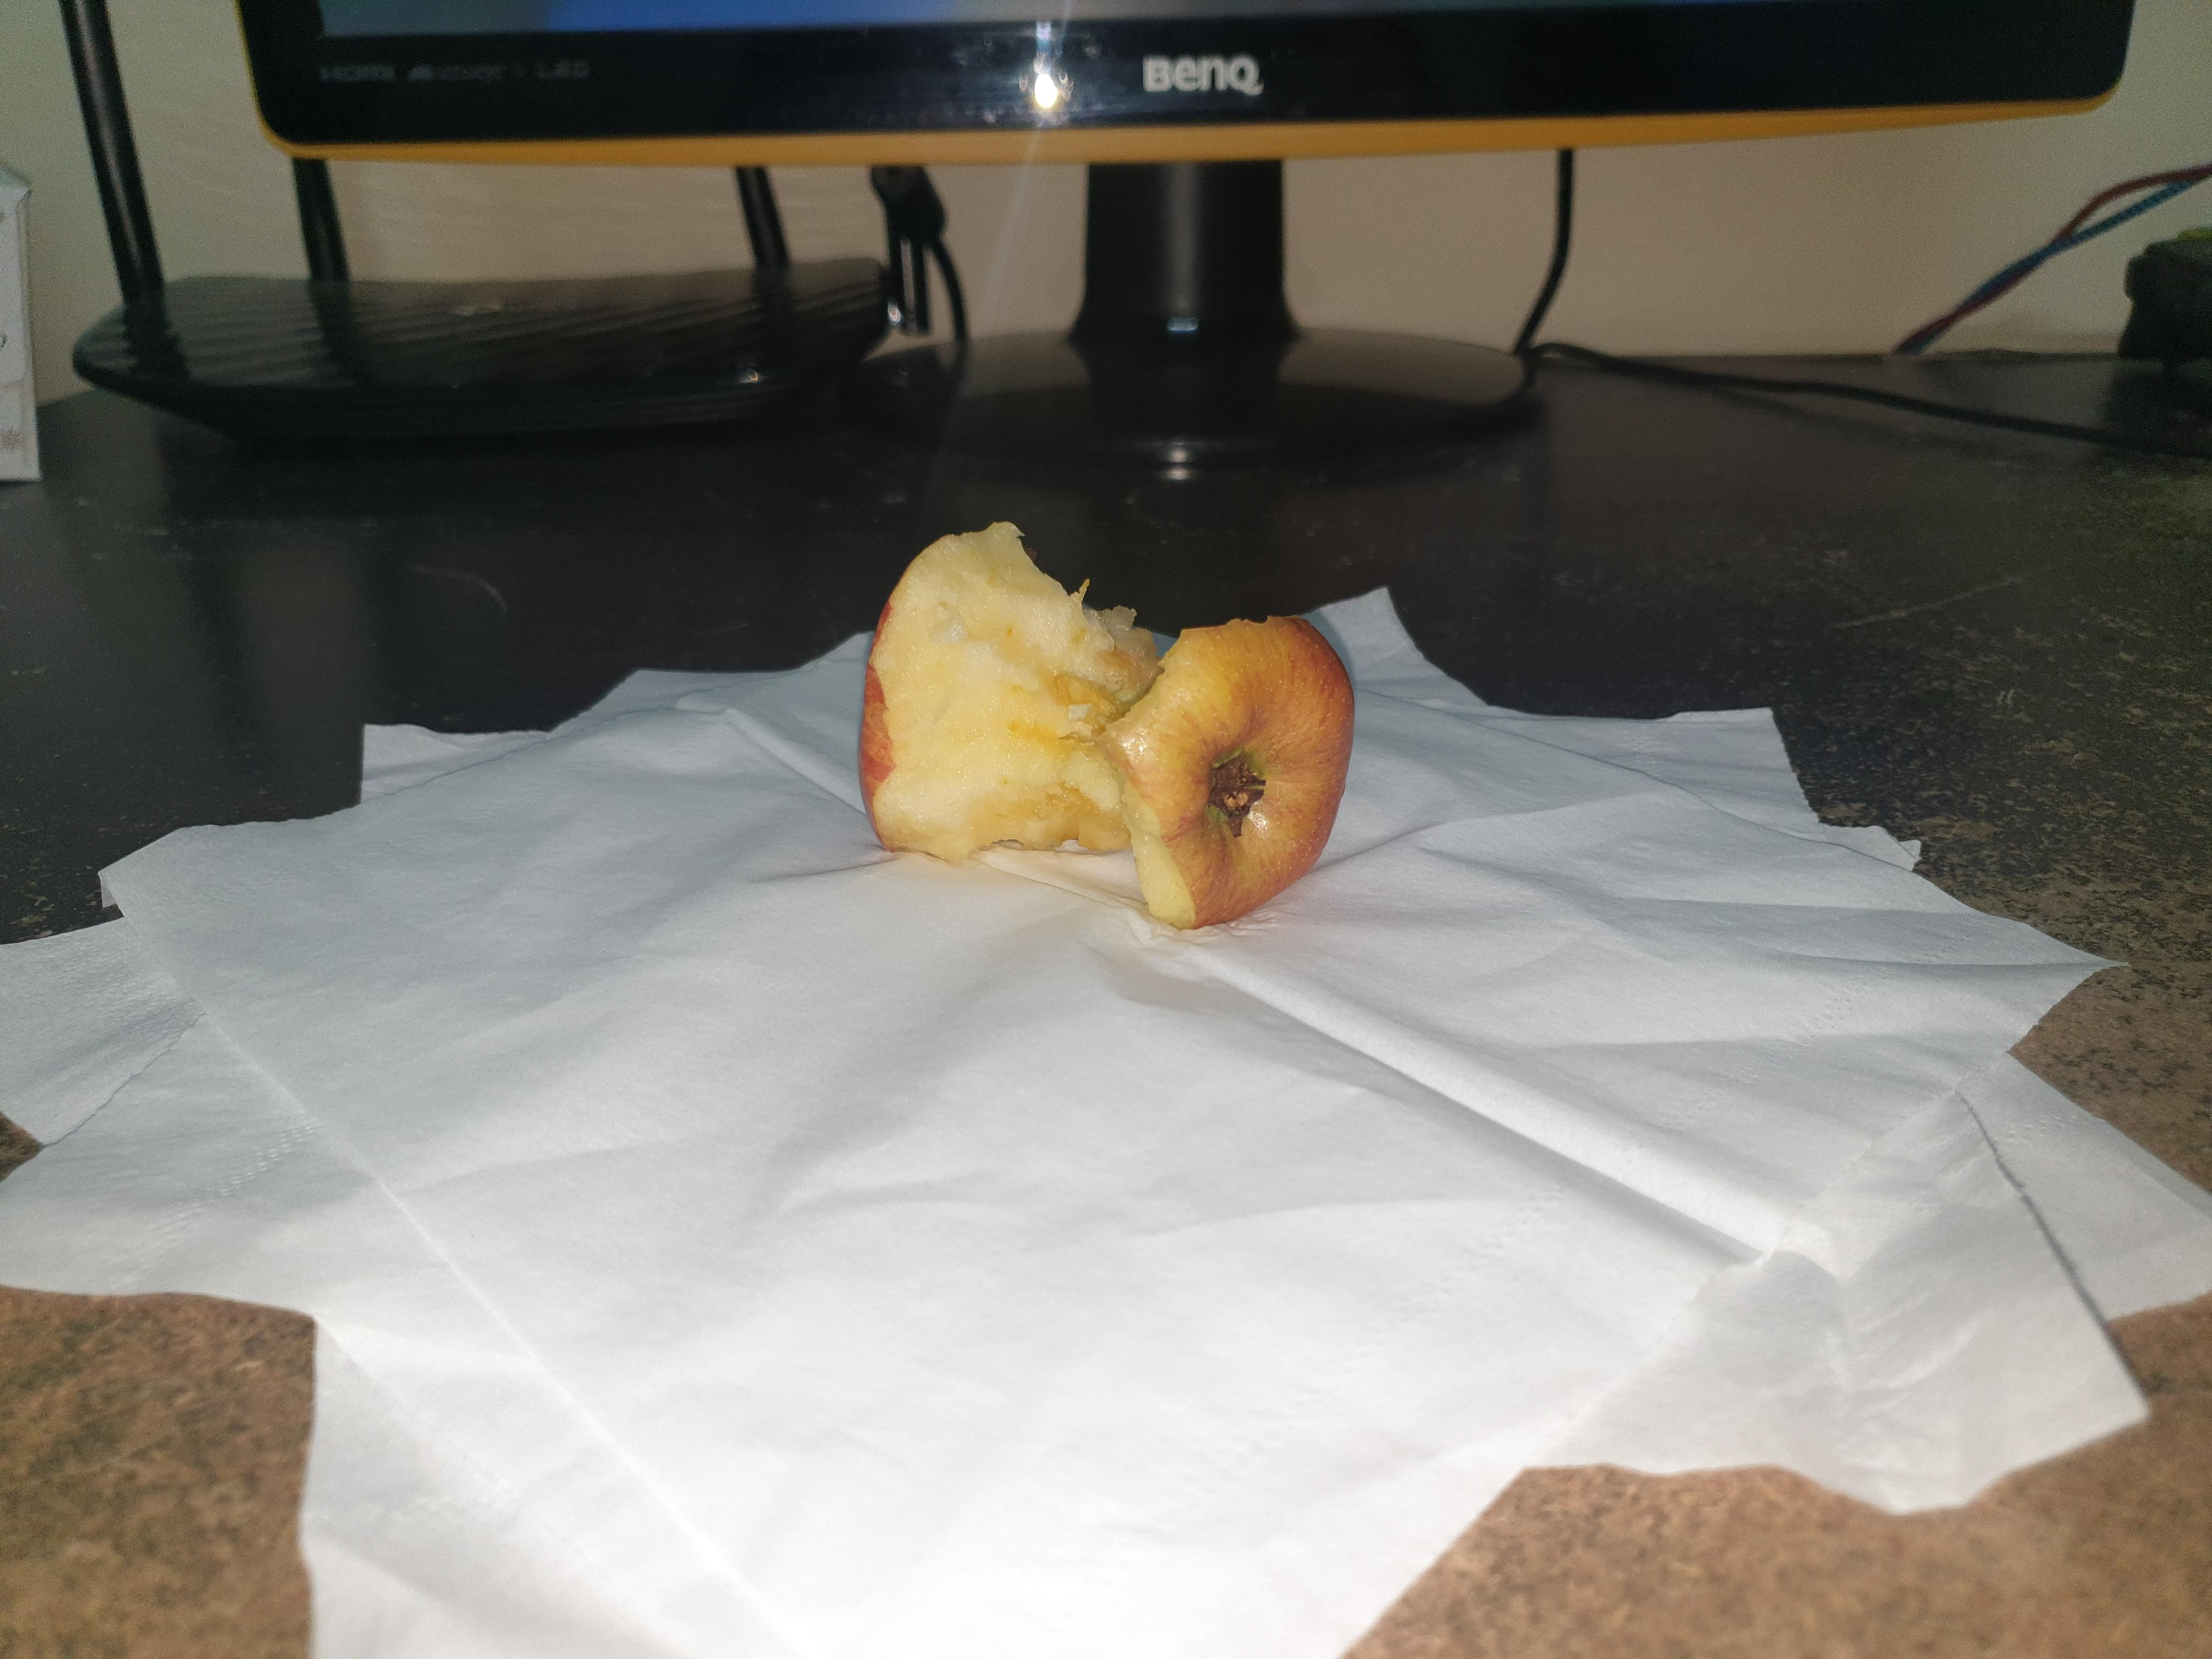Apple: (815, 511, 1384, 952)
